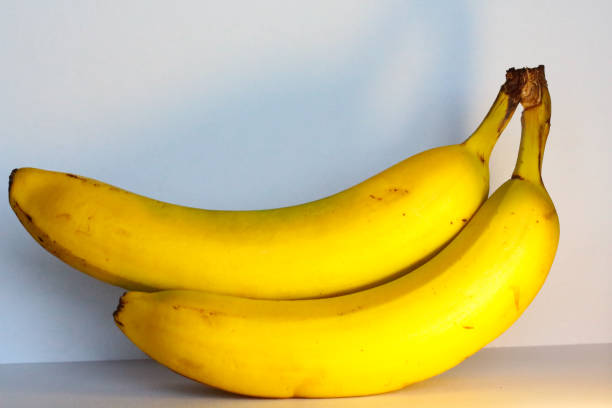banana: (10, 65, 579, 399)
